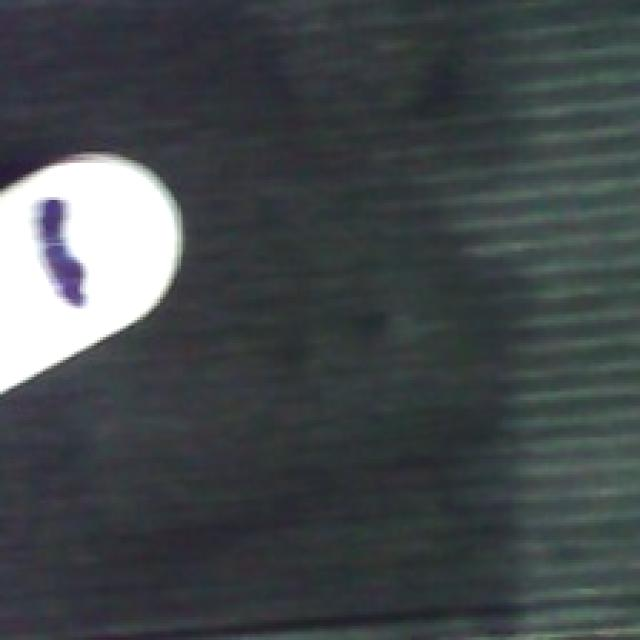defected: (0, 149, 186, 410)
